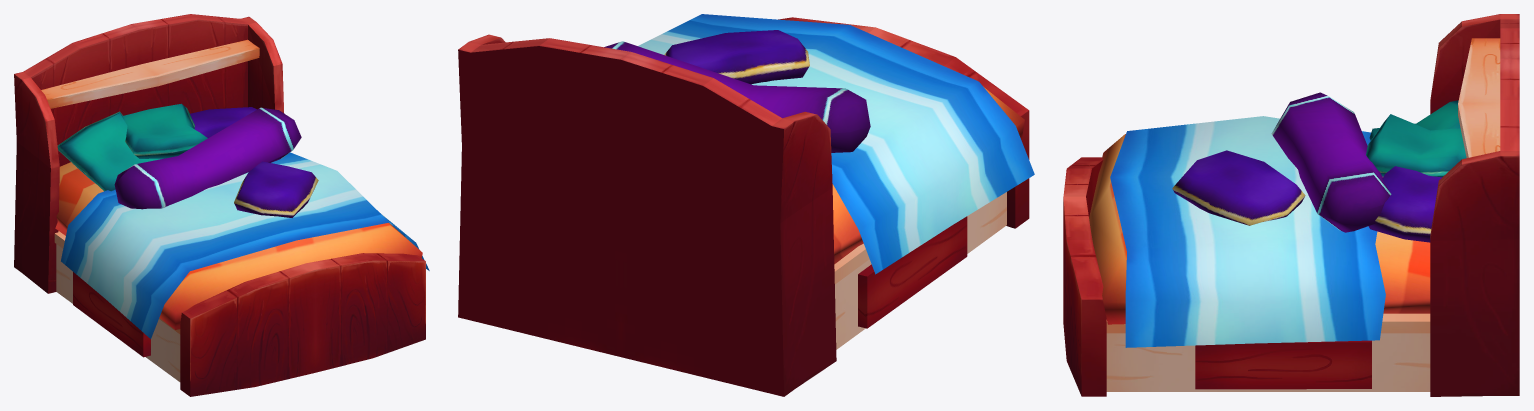
Rendered from bedGenericLv10.fbx.
3 views of the same model, side by side, from view 1: azimuth 30°, elevation 25°; view 2: azimuth 150°, elevation 25°; view 3: azimuth 270°, elevation 25° (orthographic). The views are drawn at different scales.
Parts seen in each view (by area): view 1: pCube174, polySurface7, pPlane97, pCube142, pCylinder71, pCube169, pCube175, pCube167, pCube201, pCube200, pCube165; view 2: polySurface7, pPlane97, pCube175, pCylinder71, pCube201, pCube174, pCube142, polySurface6; view 3: pPlane97, polySurface7, pCube175, pCylinder71, pCube174, pCube142, pCube201, pCube169, pCube200, pCube165, polySurface6, pCube167.
Boxes of the visible parts, left/top/right/bottom form: pCube174: left=180, top=253, right=425, bottom=396; polySurface7: left=14, top=14, right=284, bottom=293; pPlane97: left=61, top=152, right=429, bottom=338; pCube142: left=55, top=162, right=422, bottom=329; pCylinder71: left=114, top=107, right=301, bottom=209; pCube169: left=41, top=39, right=259, bottom=108; pCube175: left=56, top=244, right=180, bottom=381; pCube167: left=57, top=111, right=162, bottom=191; pCube201: left=234, top=161, right=318, bottom=217; pCube200: left=122, top=103, right=207, bottom=158; pCube165: left=190, top=107, right=256, bottom=138; polySurface7: left=458, top=34, right=836, bottom=396; pPlane97: left=638, top=14, right=1034, bottom=274; pCube175: left=835, top=192, right=1006, bottom=349; pCylinder71: left=604, top=41, right=870, bottom=152; pCube201: left=664, top=30, right=809, bottom=84; pCube174: left=778, top=17, right=1029, bottom=228; pCube142: left=832, top=86, right=1024, bottom=264; polySurface6: left=834, top=243, right=869, bottom=284; pPlane97: left=1110, top=116, right=1385, bottom=347; polySurface7: left=1430, top=14, right=1519, bottom=396; pCube175: left=1106, top=333, right=1430, bottom=391; pCylinder71: left=1271, top=92, right=1391, bottom=232; pCube174: left=1063, top=157, right=1106, bottom=396; pCube142: left=1089, top=134, right=1430, bottom=324; pCube201: left=1172, top=150, right=1305, bottom=225; pCube169: left=1458, top=38, right=1500, bottom=157; pCube200: left=1366, top=114, right=1466, bottom=177; pCube165: left=1368, top=166, right=1441, bottom=242; polySurface6: left=1106, top=313, right=1430, bottom=333; pCube167: left=1369, top=100, right=1460, bottom=140.
Size of the model in its own units: 7.91 by 5.82 by 9.03.
